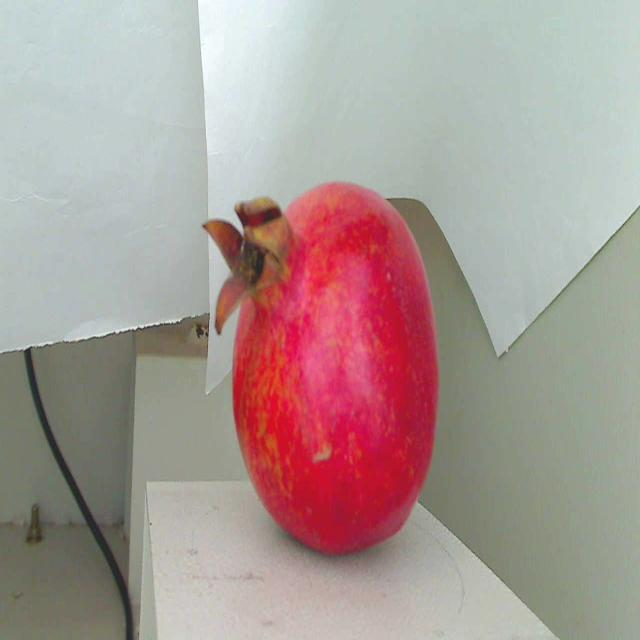pomegranate: (204, 153, 448, 559)
